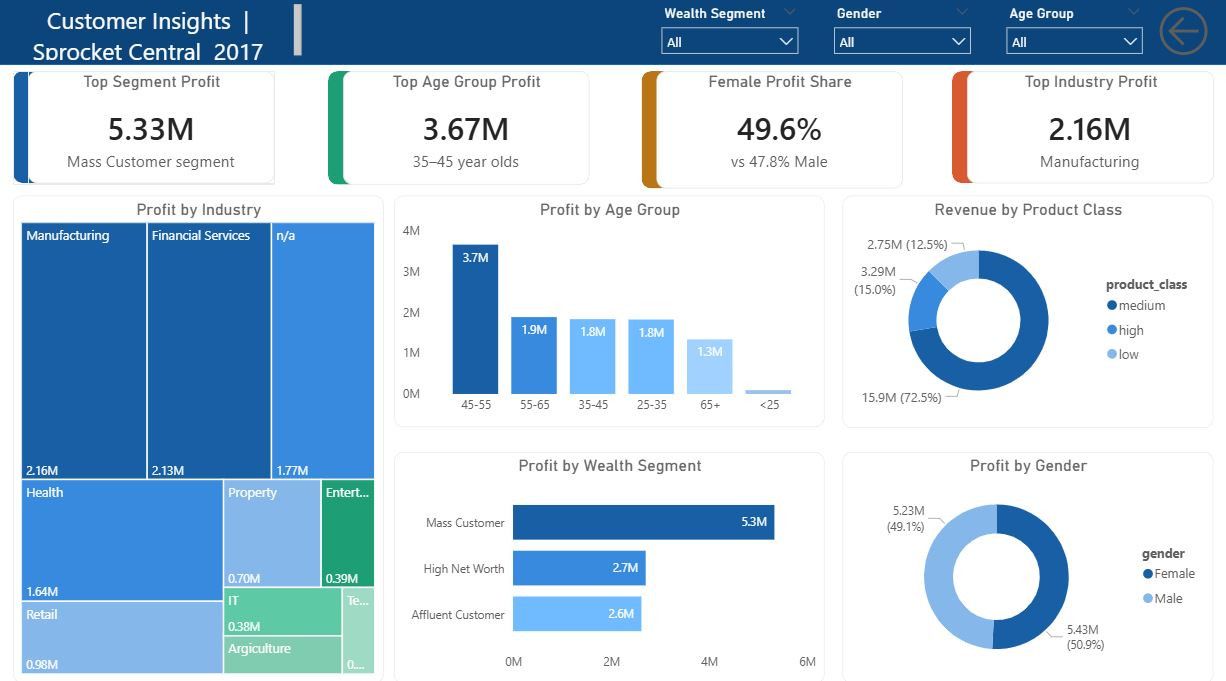

This screenshot's page, from the dashboard's own definition file:
{"tool":"powerbi","page":{"name":"Customer Segments","canvas":[1280,720],"ordinal":1},"visuals":[{"type":"barChart","title":"Profit by Wealth Segment","fields":{"Category":["CustomerDemographic.wealth_segment"],"Y":["_Measures.Total Profit"],"Series":["CustomerDemographic.wealth_segment"]},"box":[411,479.5,447.6,240.5],"z":0},{"type":"shape","box":[668.3,84.7,32,122.2],"z":1000,"group":"g2"},{"type":"columnChart","title":"Profit by Age Group","fields":{"Category":["CustomerDemographic.Age_Group"],"Y":["_Measures.Total Profit"],"Series":["CustomerDemographic.Age_Group"]},"box":[411,213.5,447.6,240.5],"z":1000},{"type":"shape","box":[342.2,84.6,32,118.3],"z":2000,"group":"g1"},{"type":"cardVisual","title":"Female Profit Share","fields":{"Data":["_Measures.Female Profit Share %"]},"box":[684.3,84.7,256,122.2],"z":2000,"group":"g2"},{"type":"treemap","title":" Profit by Industry","fields":{"Group":["CustomerDemographic.job_industry_category"],"Values":["_Measures.Total Profit"]},"box":[15.4,213.8,385.2,506.5],"z":2000},{"type":"shape","box":[15.4,84.6,32,116.5],"z":3000,"group":"g3"},{"type":"donutChart","title":"Profit by Gender","fields":{"Category":["CustomerDemographic.gender"],"Y":["_Measures.Total Profit"]},"box":[877.7,479.5,385.5,240.5],"z":3000},{"type":"shape","box":[991.8,84.6,30.2,116.5],"z":3500,"group":"g4"},{"type":"group","id":"g1","title":"Group 1","box":[342.2,84.6,271.5,117.5],"z":4000},{"type":"cardVisual","title":"Top Industry Profit","fields":{"Data":["_Measures.Top Industry Profit"]},"box":[1006.9,84.6,256.9,116.5],"z":4000,"group":"g4"},{"type":"group","id":"g2","title":"Group 3","box":[668.3,84.7,271.5,121.3],"z":5000},{"type":"group","id":"g3","title":"Group 4","box":[15.4,84.6,273.5,117.5],"z":6000},{"type":"cardVisual","title":"Top Age Group Profit","fields":{"Data":["_Measures.Top Age Group Profit"]},"box":[358.2,84.6,256,118.3],"z":6000,"group":"g1"},{"type":"cardVisual","title":"Top Segment Profit","fields":{"Data":["_Measures.Top Segment Profit"]},"box":[31.4,84.6,256,116.5],"z":7000,"group":"g3"},{"type":"group","id":"g4","title":"Group 2","box":[991.8,84.6,271.5,117.5],"z":7000},{"type":"donutChart","title":"Revenue by Product Class","fields":{"Category":["Transactions.product_class"],"Y":["_Measures.Total Revenue"]},"box":[878.2,213.8,385.2,241],"z":8000},{"type":"shape","box":[0,10,1280.7,68.5],"z":9000},{"type":"actionButton","box":[1199.8,11.6,65.5,63.6],"z":10000},{"type":"textbox","box":[0,9.6,320.2,68.5],"z":11000},{"type":"slicer","fields":{"Values":["CustomerDemographic.wealth_segment"]},"box":[679.8,11.6,161.8,69.3],"z":12000},{"type":"slicer","fields":{"Values":["CustomerDemographic.gender"]},"box":[858.9,11.6,161.8,69.3],"z":13000},{"type":"slicer","fields":{"Values":["CustomerDemographic.Age_Group"]},"box":[1038,11.6,161,69.3],"z":14000}]}

Visuals, with their boxes in screenshot pixels (x1, y1, x2, y2), scaled from the page's 1280x720 canvas onto the 1226x681 screenshot:
"Profit by Wealth Segment" barChart: bbox=(394, 454, 822, 680)
shape: bbox=(640, 80, 671, 196)
"Profit by Age Group" columnChart: bbox=(394, 202, 822, 429)
shape: bbox=(328, 80, 358, 192)
"Female Profit Share" cardVisual: bbox=(655, 80, 901, 196)
" Profit by Industry" treemap: bbox=(15, 202, 384, 680)
shape: bbox=(15, 80, 45, 190)
"Profit by Gender" donutChart: bbox=(841, 454, 1210, 680)
shape: bbox=(950, 80, 979, 190)
"Group 1" group: bbox=(328, 80, 588, 191)
"Top Industry Profit" cardVisual: bbox=(964, 80, 1210, 190)
"Group 3" group: bbox=(640, 80, 900, 195)
"Group 4" group: bbox=(15, 80, 277, 191)
"Top Age Group Profit" cardVisual: bbox=(343, 80, 588, 192)
"Top Segment Profit" cardVisual: bbox=(30, 80, 275, 190)
"Group 2" group: bbox=(950, 80, 1210, 191)
"Revenue by Product Class" donutChart: bbox=(841, 202, 1210, 430)
shape: bbox=(0, 9, 1225, 74)
actionButton: bbox=(1149, 11, 1212, 71)
textbox: bbox=(0, 9, 307, 74)
slicer - CustomerDemographic.wealth_segment: bbox=(651, 11, 806, 77)
slicer - CustomerDemographic.gender: bbox=(823, 11, 978, 77)
slicer - CustomerDemographic.Age_Group: bbox=(994, 11, 1148, 77)
